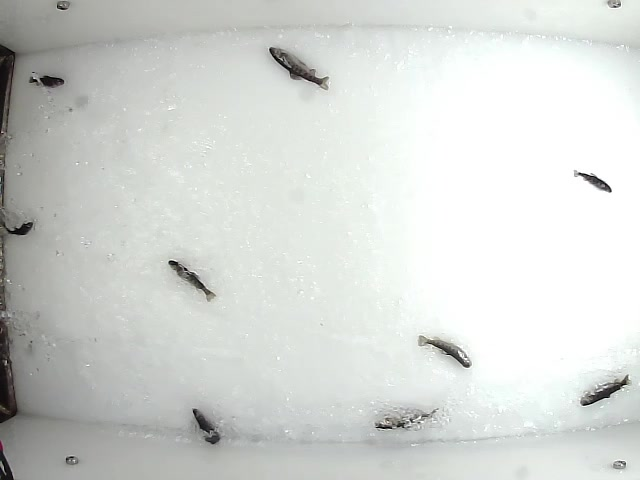fish: (269, 44, 331, 90), (164, 256, 218, 303), (577, 371, 635, 405), (372, 401, 440, 430), (415, 333, 470, 368), (572, 168, 614, 195), (191, 408, 221, 445), (25, 70, 67, 90)
